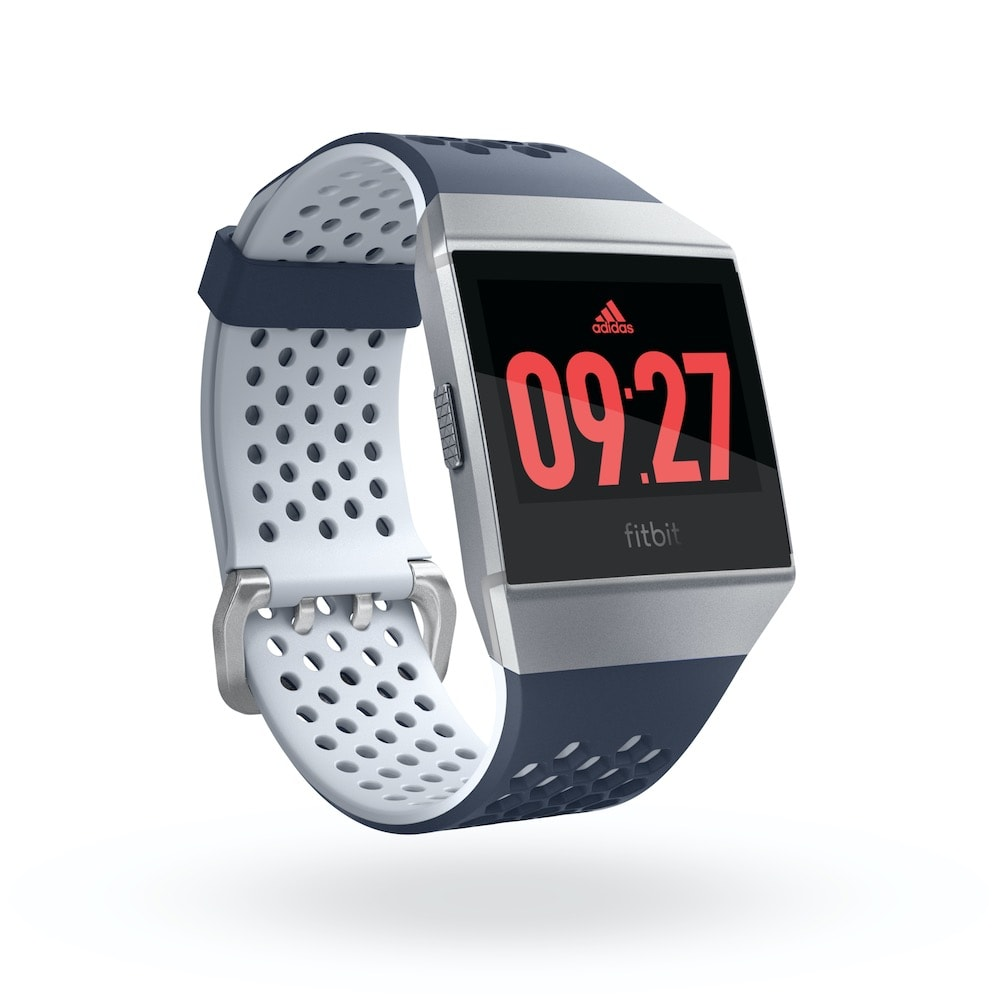Adidas: (584, 294, 639, 336)
